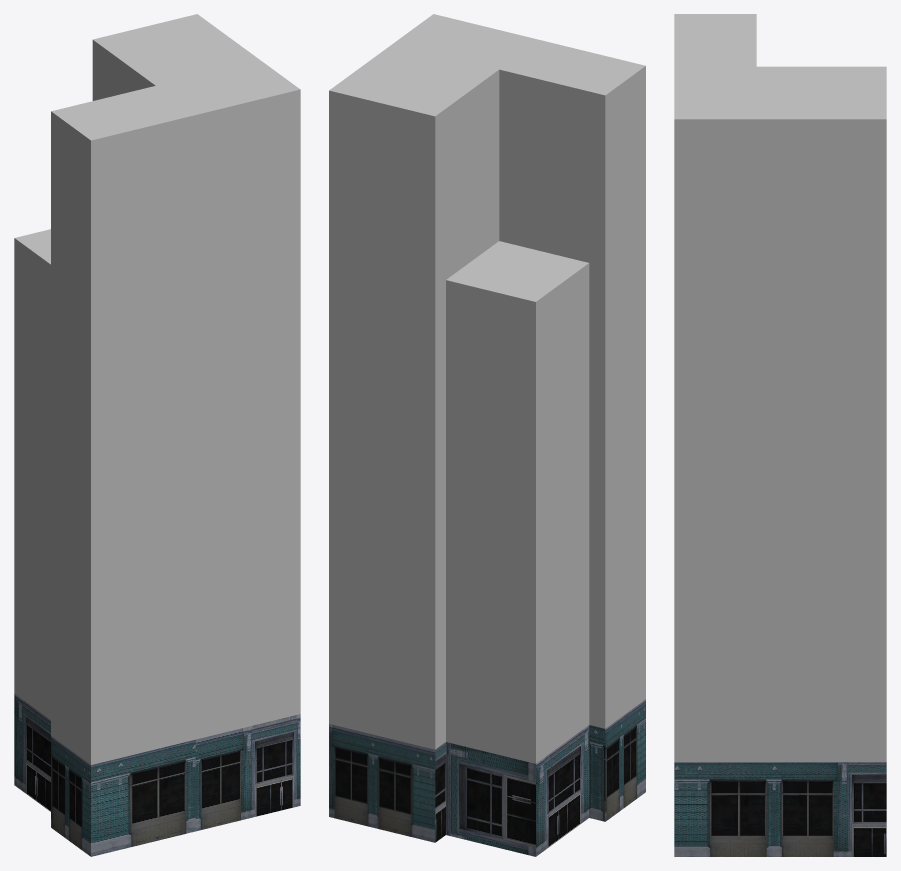
The model's file is NEW building 3.fbx.
3 renders of one model, left to right at view 1: azimuth 30°, elevation 25°; view 2: azimuth 150°, elevation 25°; view 3: azimuth 270°, elevation 25°, orthographic. The views are drawn at different scales.
Parts seen in each view (by area): view 1: Object_6.019; view 2: Object_6.019; view 3: Object_6.019.
Boxes of the visible parts, left/top/right/bottom form: Object_6.019: left=14, top=14, right=300, bottom=856; Object_6.019: left=329, top=14, right=645, bottom=856; Object_6.019: left=674, top=14, right=886, bottom=856.
Bounding box in the file's own units: 339 × 1108 × 289.
